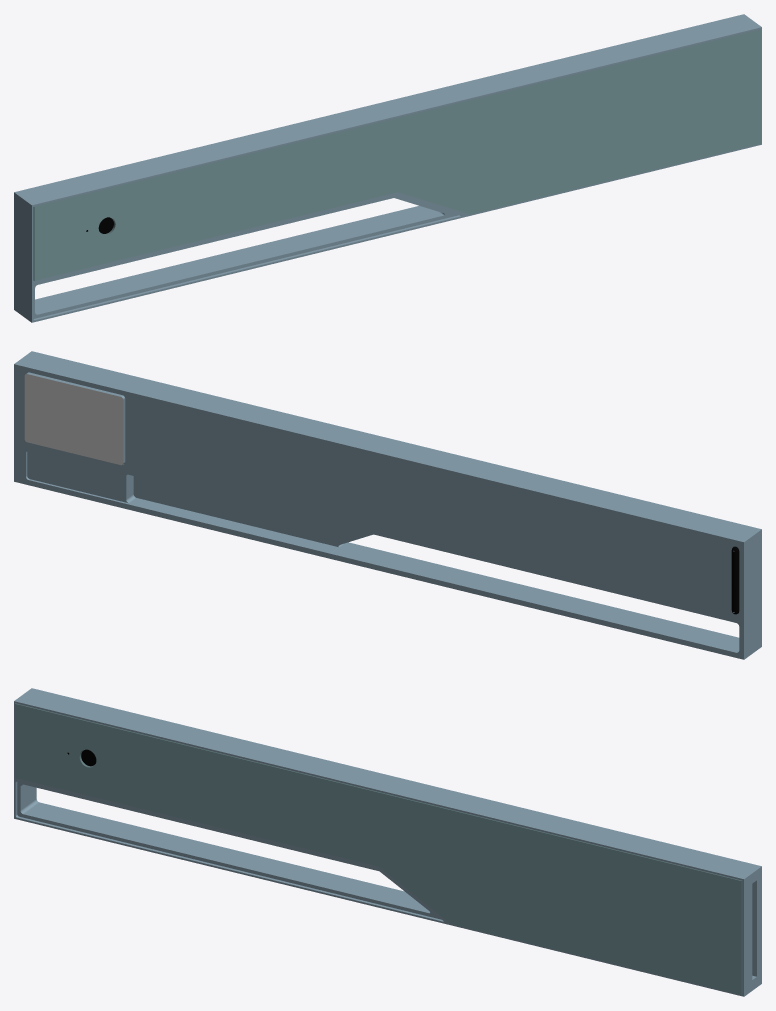
3 views of the same model, one above another, from view 1: azimuth 30°, elevation 25°; view 2: azimuth 150°, elevation 25°; view 3: azimuth 330°, elevation 25° (orthographic).
Parts seen in each view (by area): view 1: SketchUp.008, SketchUp.006, SketchUp.002, SketchUp.001, SketchUp; view 2: SketchUp.006, SketchUp.002, SketchUp.004, SketchUp.007; view 3: SketchUp.008, SketchUp.006, SketchUp.002, SketchUp.001, SketchUp.
Part boxes in pixels (x1,y1,x2,y2): SketchUp.008: [34, 30, 760, 280]; SketchUp.006: [14, 14, 761, 322]; SketchUp.002: [35, 205, 444, 314]; SketchUp.001: [33, 195, 460, 320]; SketchUp: [33, 29, 760, 280]; SketchUp.006: [14, 351, 761, 659]; SketchUp.002: [26, 450, 739, 652]; SketchUp.004: [24, 374, 123, 465]; SketchUp.007: [731, 546, 739, 614]; SketchUp.008: [15, 704, 741, 994]; SketchUp.006: [14, 688, 761, 996]; SketchUp.002: [20, 784, 429, 913]; SketchUp.001: [15, 781, 443, 921]; SketchUp: [15, 703, 742, 994].
Size of the model in its own units: 0.13 by 0.00631 by 0.02.
